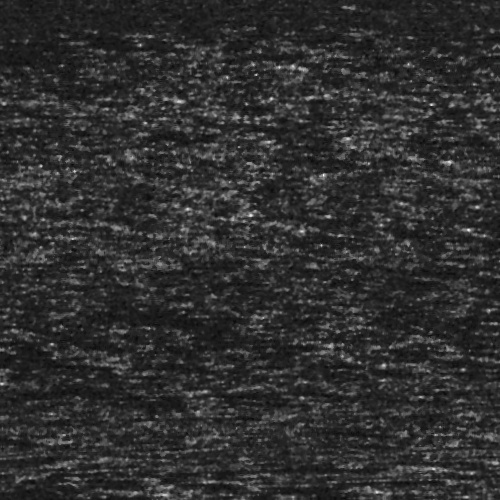object: (339, 462, 444, 471)
shadow: (197, 462, 391, 471)
